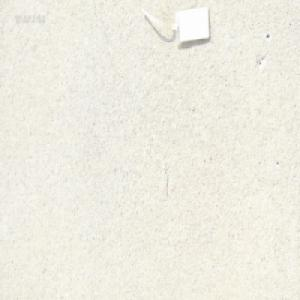LuggageTag: (137, 3, 210, 49)
